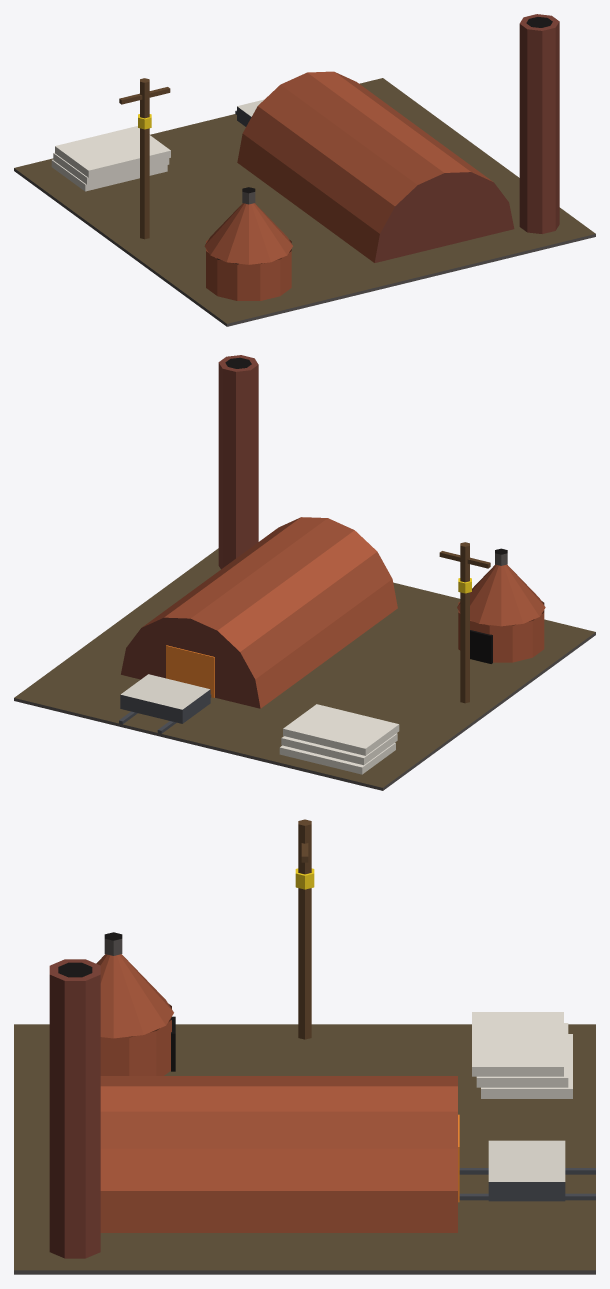
The model's file is kiln_3.obj.
The picture shows the model from 3 angles, top to bottom: view 1: azimuth 30°, elevation 25°; view 2: azimuth 150°, elevation 25°; view 3: azimuth 270°, elevation 25°; orthographic projection. The views are drawn at different scales.
Bounding box in the file's own units: 3.8 × 2.03 × 3.8.
